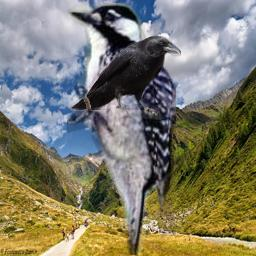Crow: (66, 34, 181, 121)
Woodpecker: (67, 3, 176, 255)
